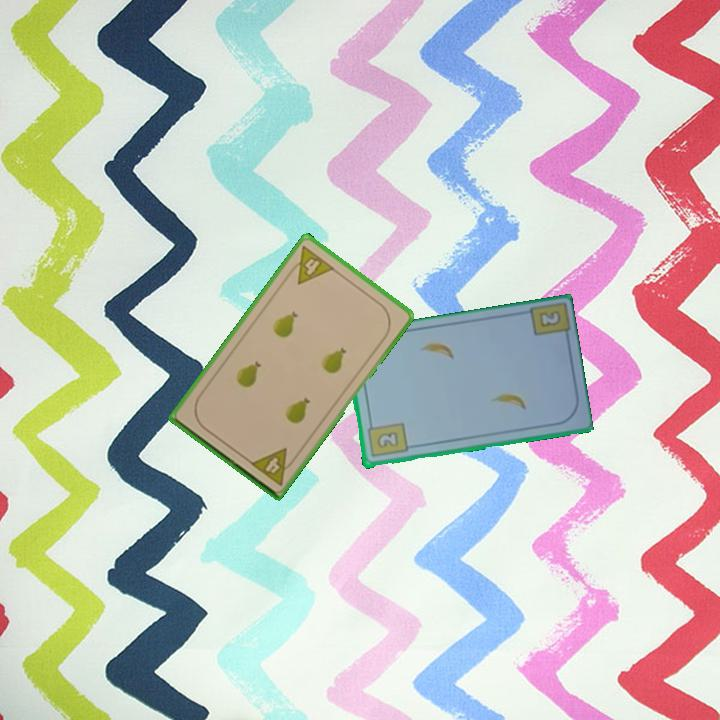2b: (364, 418, 410, 460), (536, 307, 564, 330)
4p: (283, 242, 338, 287), (246, 444, 299, 489)
